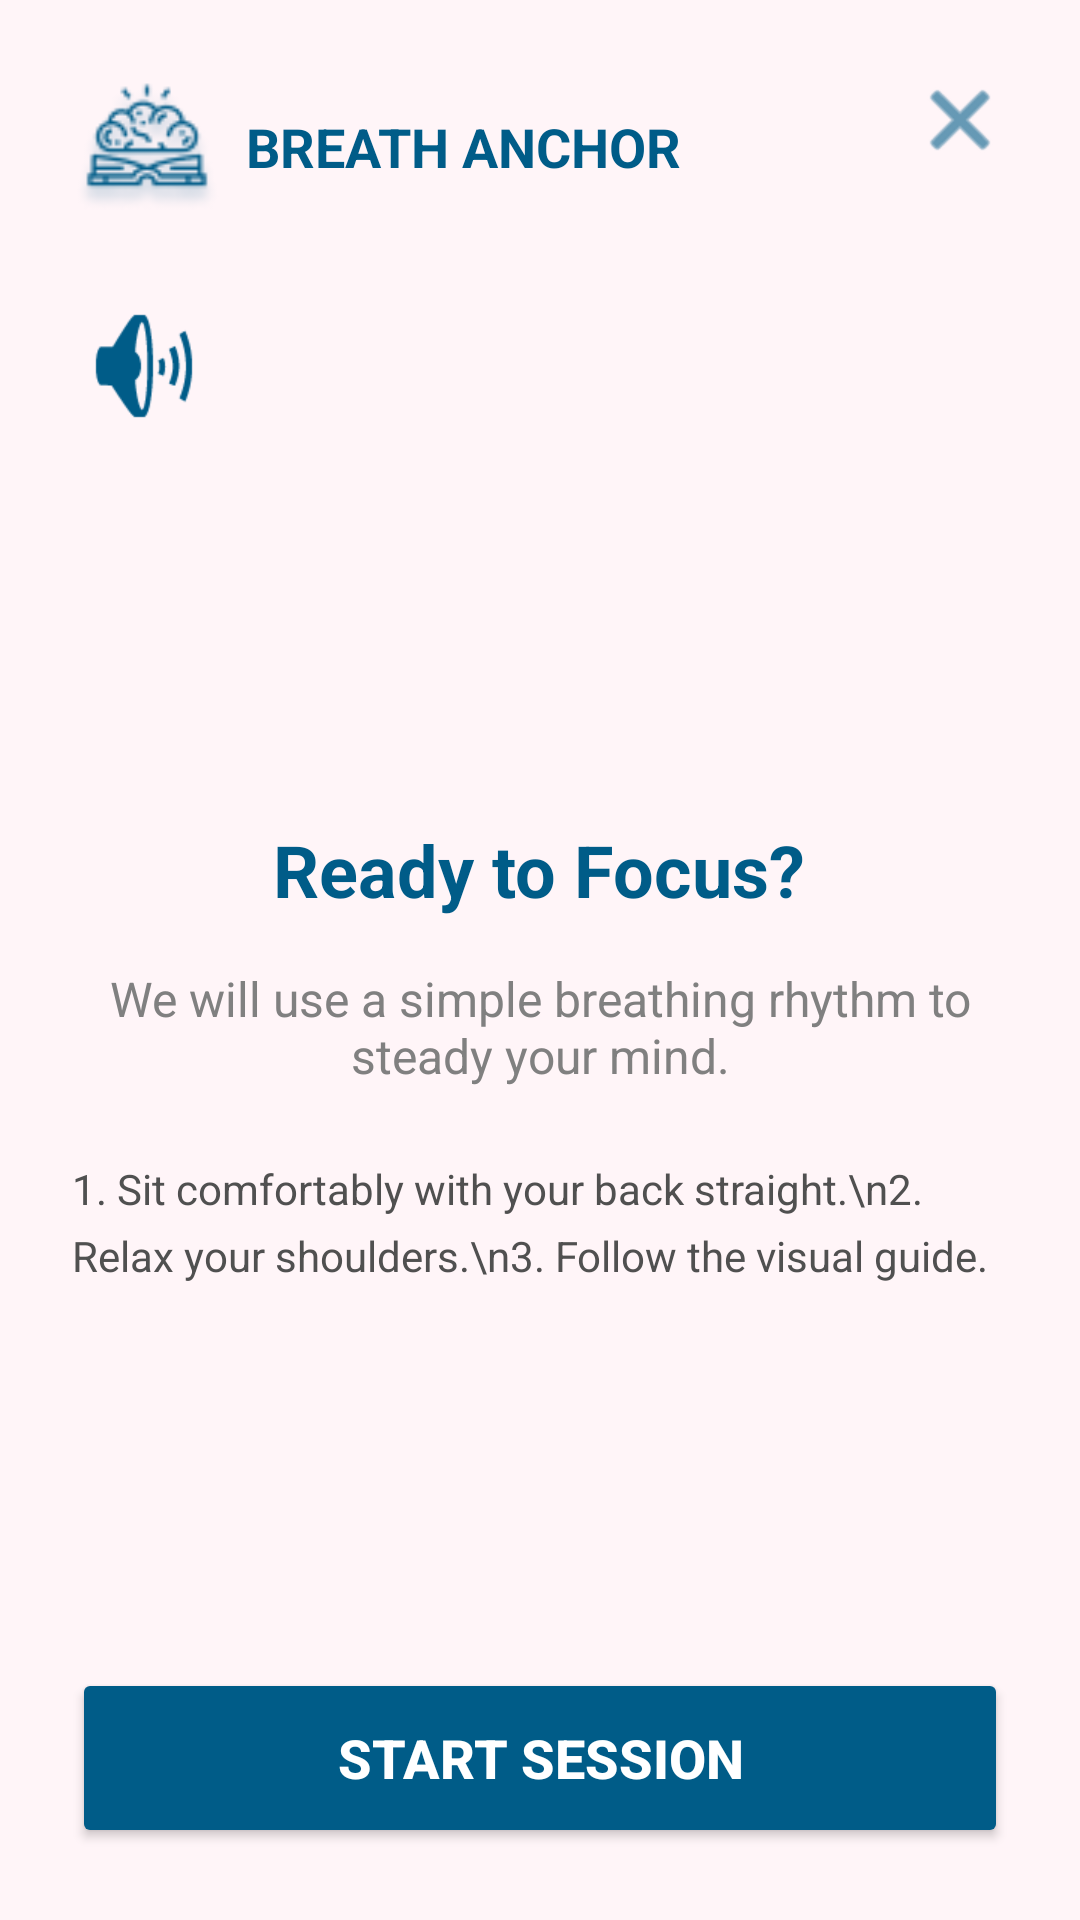

Icon click points for this 1080*1920 phone screenshot, format point (x, y):
Tombol Keluar: point (960, 120)
